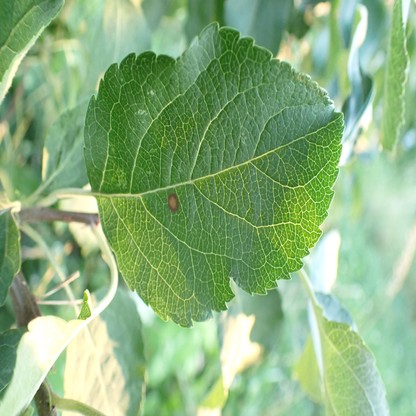frogeye_leaf_spot: (169, 194, 179, 214)
